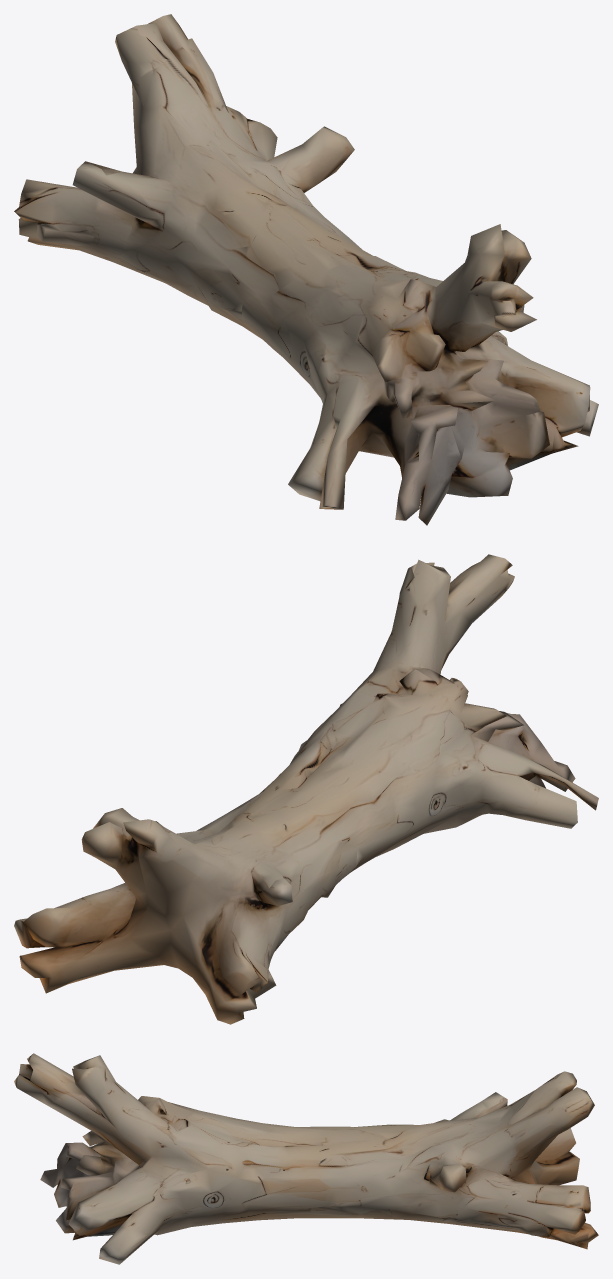
The model's file is driftwood.glb.
3 renders of one model, top to bottom at view 1: azimuth 30°, elevation 25°; view 2: azimuth 150°, elevation 25°; view 3: azimuth 270°, elevation 25°, orthographic. The views are drawn at different scales.
Parts seen in each view (by area): view 1: tripo_node_cebbf6cf-16aa-4fda-aa31-3a68928381c2; view 2: tripo_node_cebbf6cf-16aa-4fda-aa31-3a68928381c2; view 3: tripo_node_cebbf6cf-16aa-4fda-aa31-3a68928381c2.
Part boxes in pixels (left/top/right/bottom): tripo_node_cebbf6cf-16aa-4fda-aa31-3a68928381c2: left=14, top=14, right=598, bottom=525; tripo_node_cebbf6cf-16aa-4fda-aa31-3a68928381c2: left=14, top=554, right=598, bottom=1024; tripo_node_cebbf6cf-16aa-4fda-aa31-3a68928381c2: left=14, top=1053, right=598, bottom=1264.
Size of the model in its own units: 0.6185 by 0.5 by 1.43.
1 material, 1 textured.
